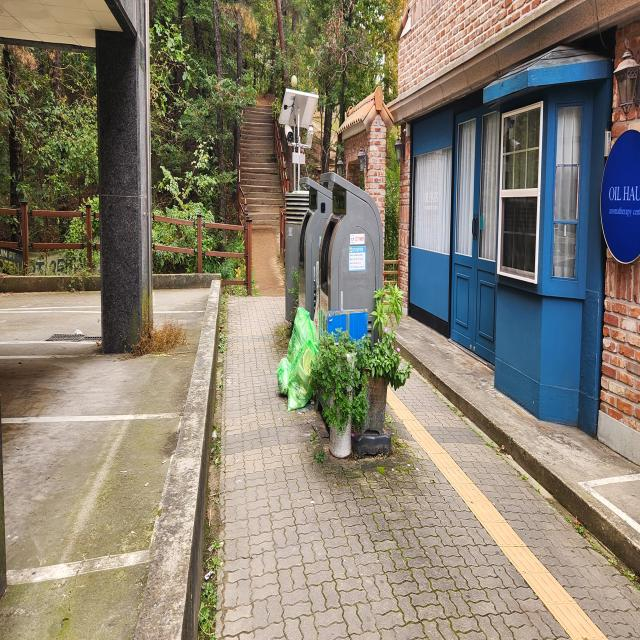CleanNet: (310, 165, 388, 386), (298, 175, 333, 302)
General Waste: (274, 301, 328, 416)
